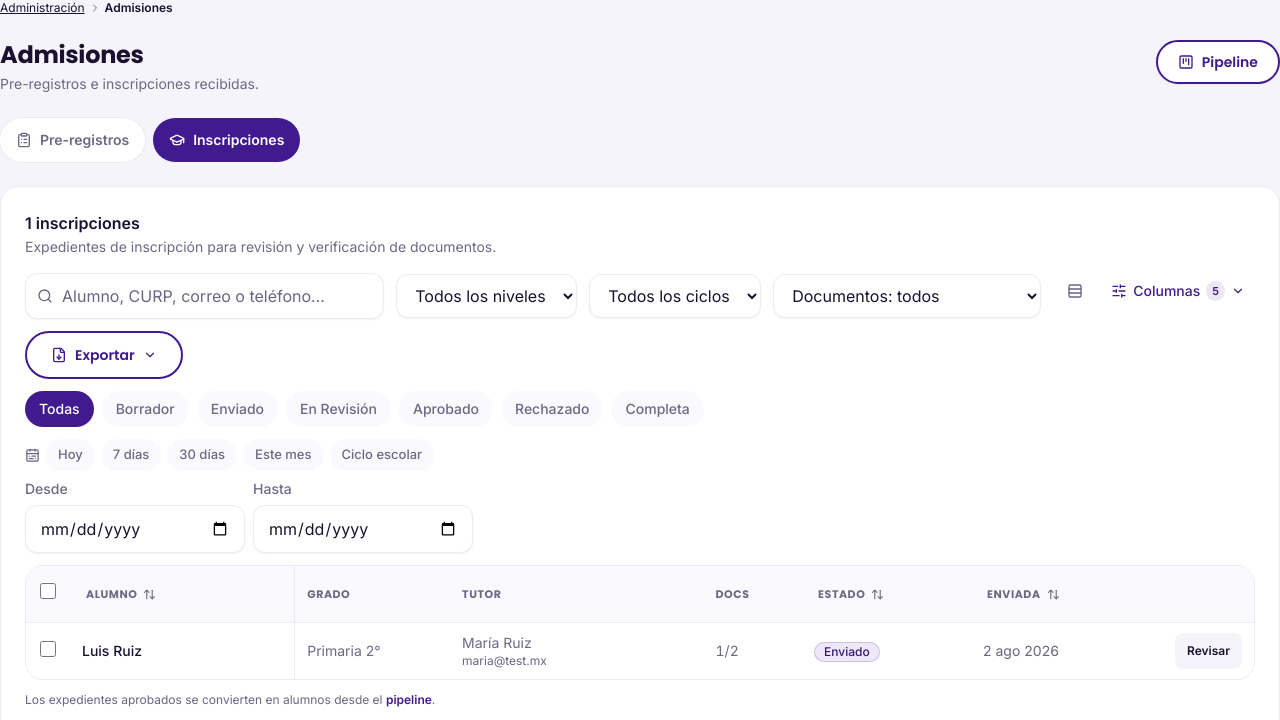
AdminAdmissions › inscripciones has no serious/critical axe violations
This screenshot has width=1280, height=720.
Expected: the text "Luis Ruiz" is shown, left=70, top=622, right=295, bottom=679
Click the checkbox named "Seleccionar inscripción de Luis Ruiz": (48, 648) left=40, top=640, right=56, bottom=656
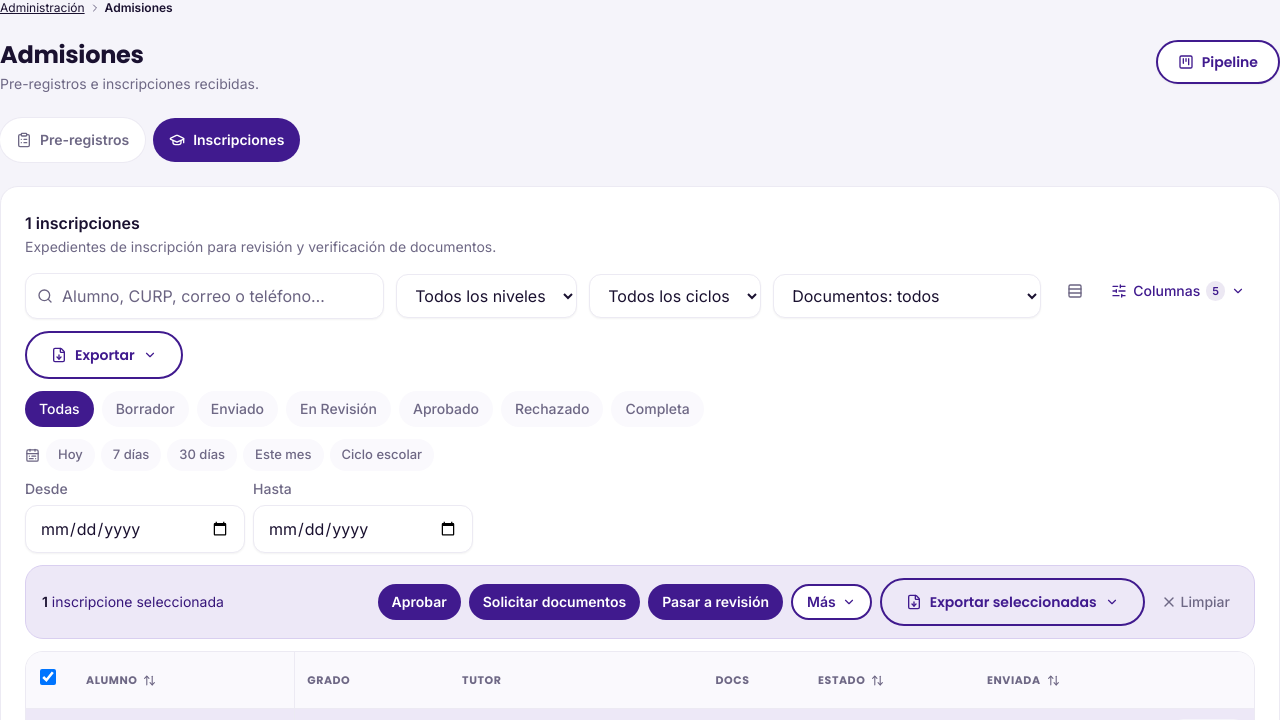
Expected: the element named "Acciones en lote" is shown, left=25, top=565, right=1255, bottom=639
